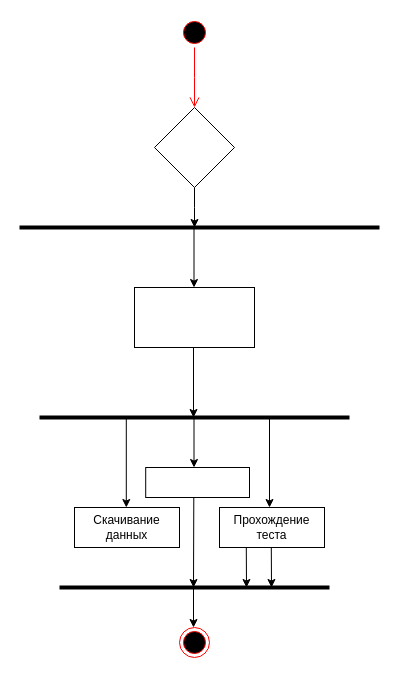
Image size: 399x675. Some labels were removed from this diagram. The centre of each missing label's shape, as x and y in pixels:
Просмотр информации: (197,482)
Просмотр сайта: (194,317)
